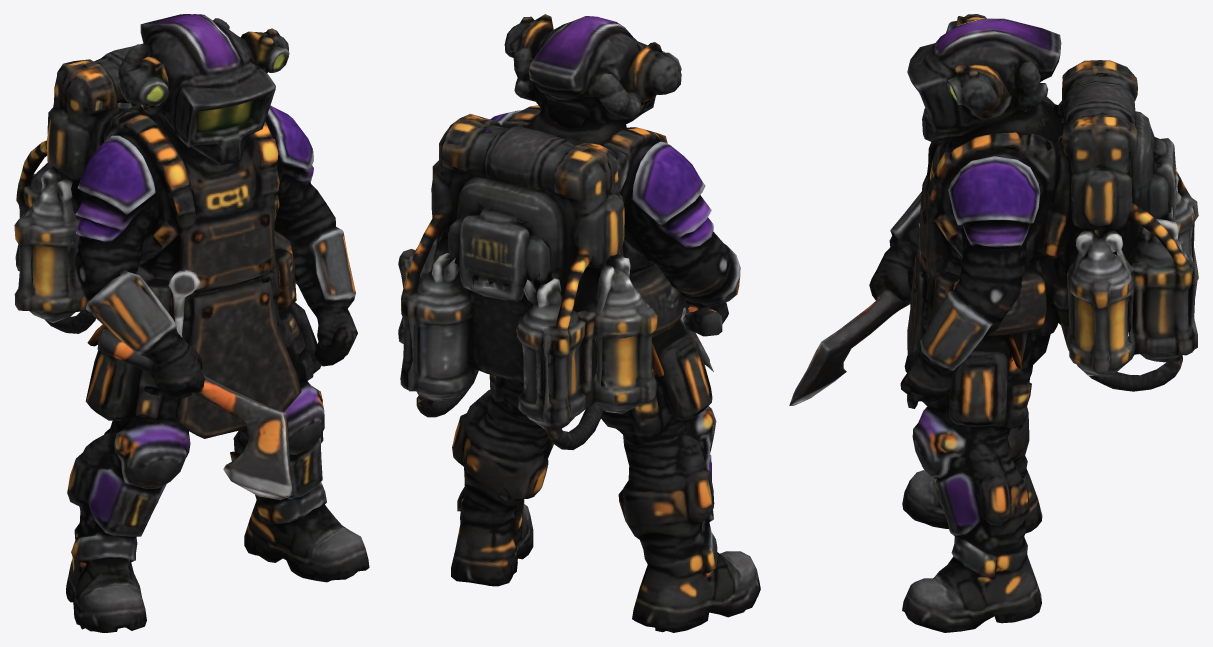
The model's file is engineer_l05.glb.
3 renders of one model, left to right at view 1: azimuth 30°, elevation 25°; view 2: azimuth 150°, elevation 25°; view 3: azimuth 270°, elevation 25°, orthographic. The views are drawn at different scales.
Parts seen in each view (by area): view 1: world; view 2: world; view 3: world.
Boxes of the visible parts, bbox=[...] form: world: bbox=[14, 14, 369, 632]; world: bbox=[398, 14, 760, 632]; world: bbox=[789, 14, 1198, 632].
Size of the model in its own units: 0.5267 by 1 by 0.6841.
Materials: 1 (1 with a texture image).
